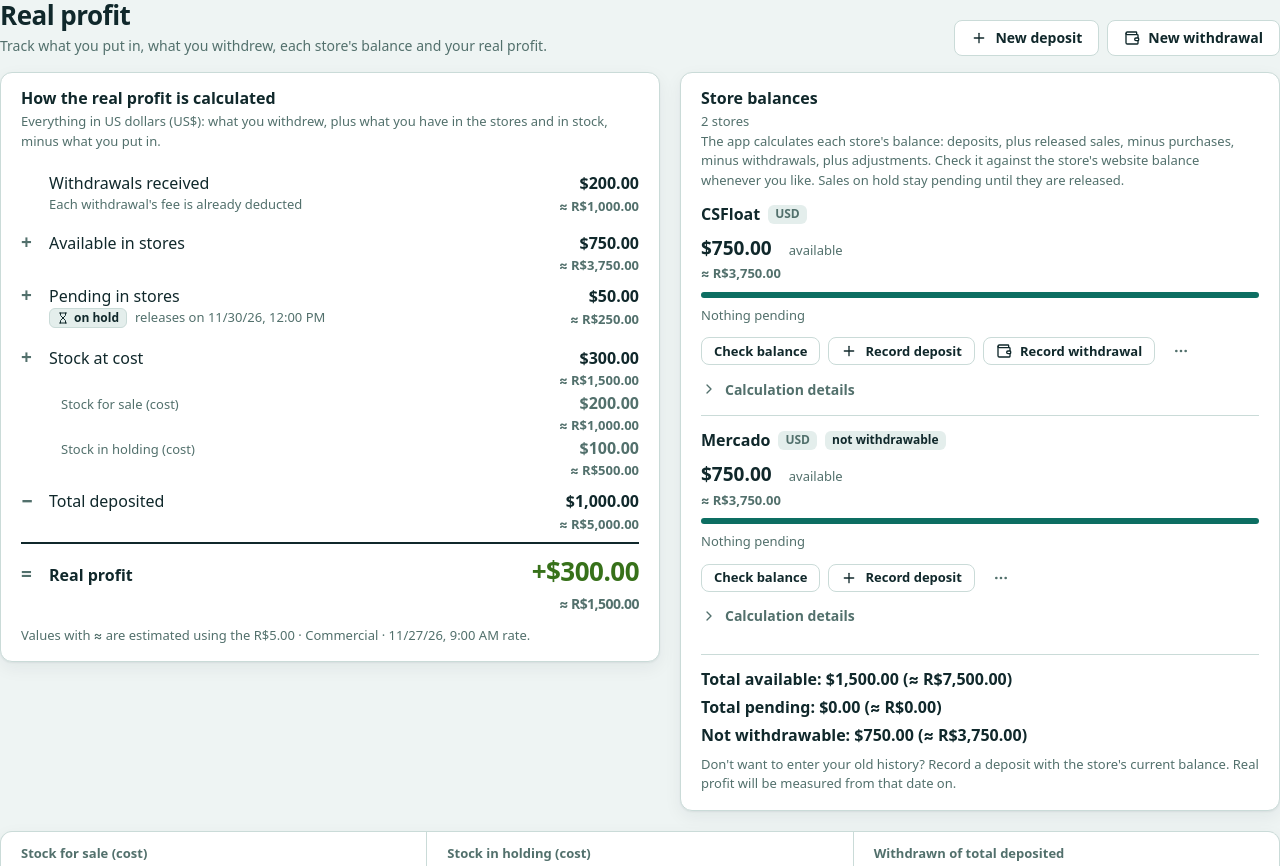
Test: página Lucro real (12.7b) › o botão do cabeçalho abre o aporte sem loja; o da linha abre com a loja escolhida
Expected: the text "CSFloat" is shown, left=701, top=202, right=760, bottom=226
Click the button "New deposit" at [1027, 38], box left=954, top=20, right=1099, bottom=56
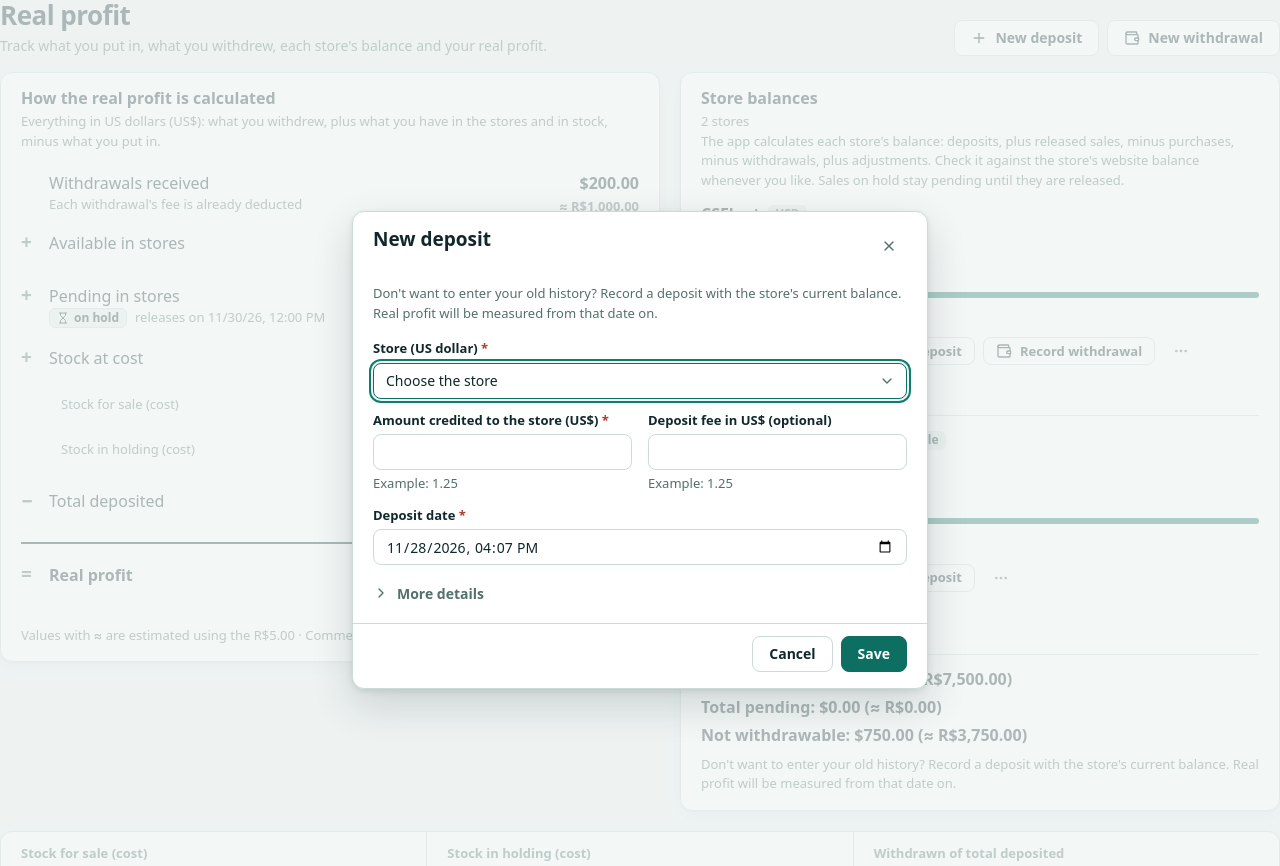
Expected: the dropdown labelled "Store (US dollar) *" shows "Choose the store", left=373, top=362, right=907, bottom=398
Click the button "Cancel" at [792, 654], box left=752, top=636, right=833, bottom=672
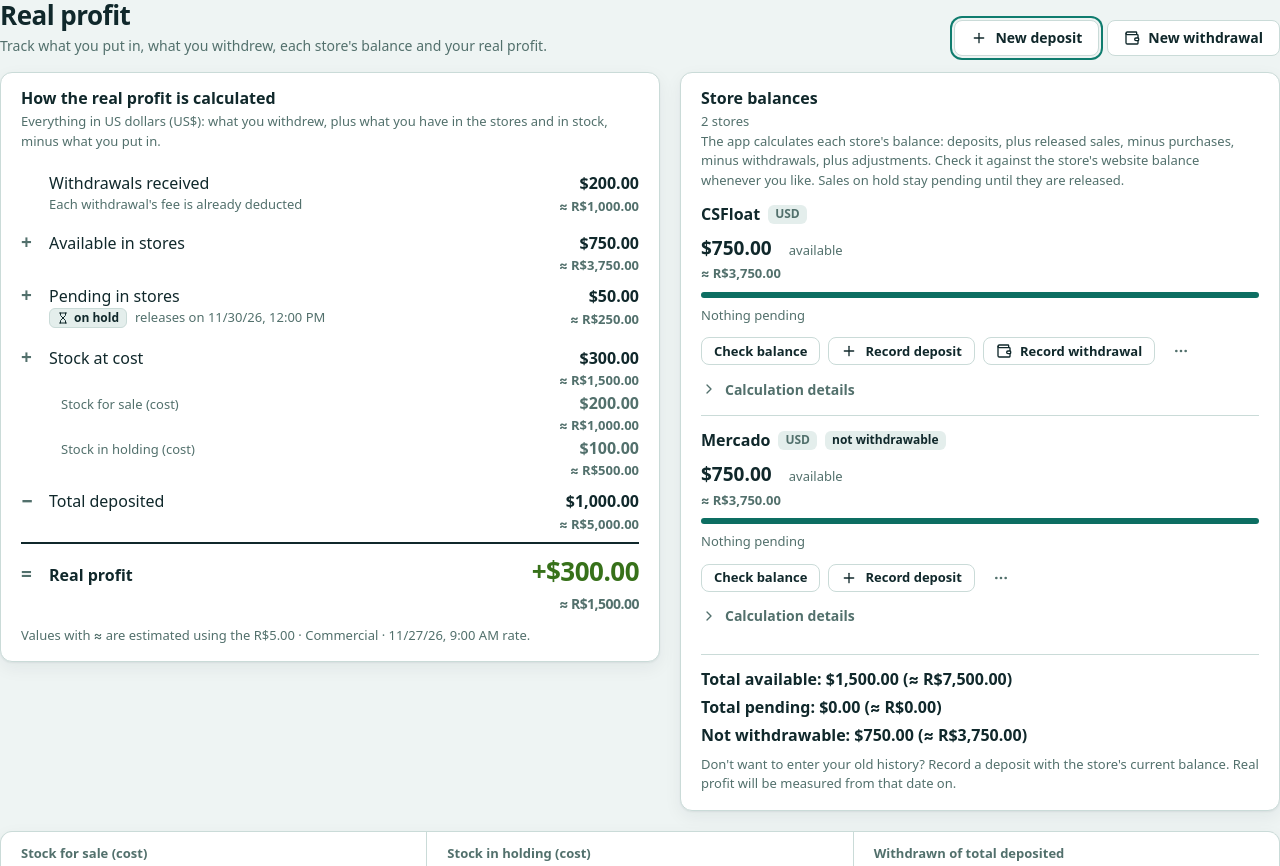
Expected: the dialog is gone
Click the 1st button "Record deposit" at [902, 352], box left=828, top=338, right=975, bottom=366
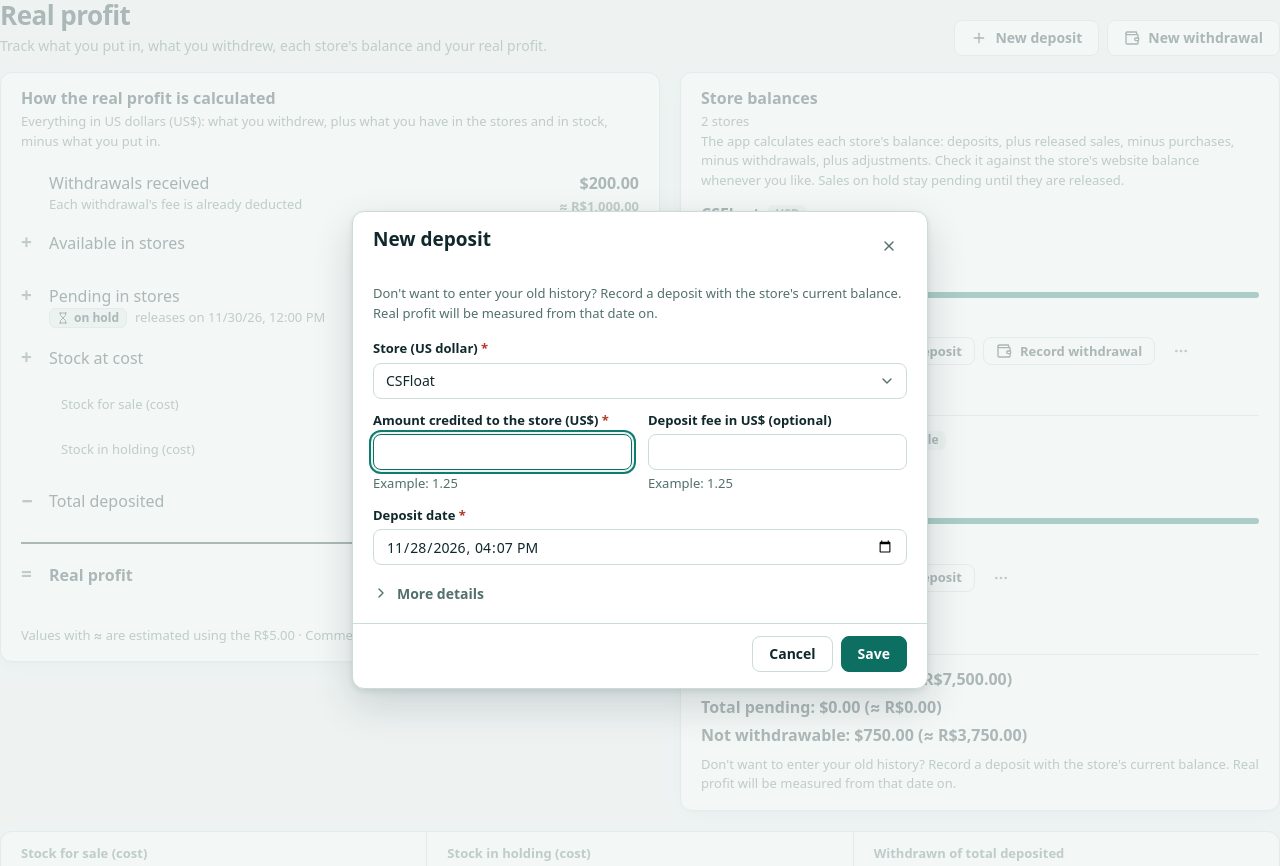
Expected: the dropdown labelled "Store (US dollar) *" shows "CSFloat", left=373, top=362, right=907, bottom=398
